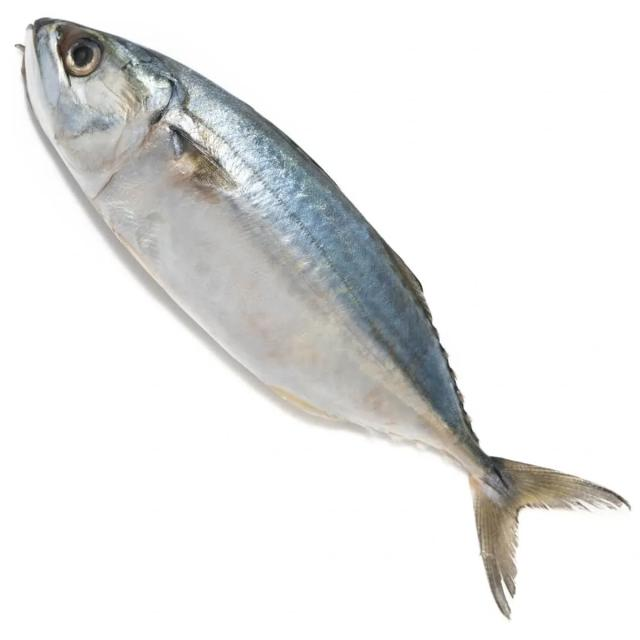Mackerel: (24, 19, 624, 618)
